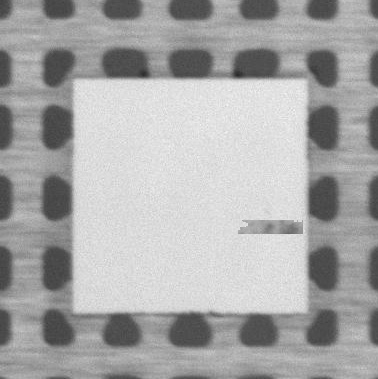DIE_INK: (237, 221, 302, 235)
